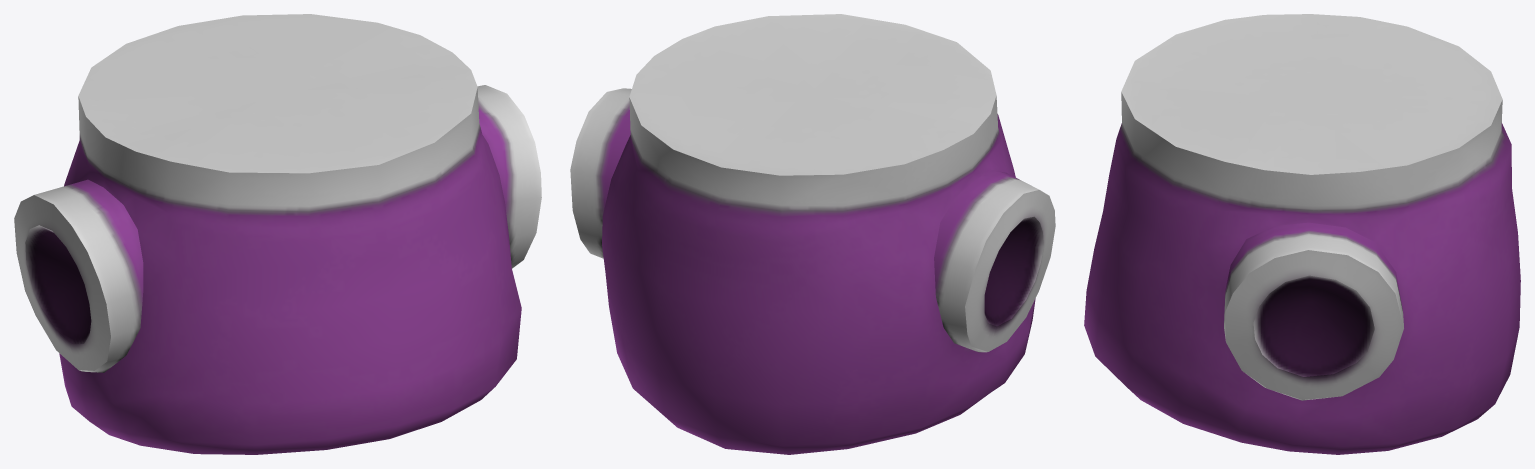
The model's file is IG_Armor_SpaceProtect.fbx.
3 views of the same model, side by side, from view 1: azimuth 30°, elevation 25°; view 2: azimuth 150°, elevation 25°; view 3: azimuth 270°, elevation 25° (orthographic). The views are drawn at different scales.
Parts seen in each view (by area): view 1: JLAB_ProtectiveClothes_Body; view 2: JLAB_ProtectiveClothes_Body; view 3: JLAB_ProtectiveClothes_Body.
Part boxes in pixels (bbox=[...]): JLAB_ProtectiveClothes_Body: bbox=[14, 14, 541, 454]; JLAB_ProtectiveClothes_Body: bbox=[570, 14, 1055, 454]; JLAB_ProtectiveClothes_Body: bbox=[1084, 14, 1520, 454].
Size of the model in its own units: 0.7204 by 0.4825 by 0.6302.
1 material, 1 textured.
